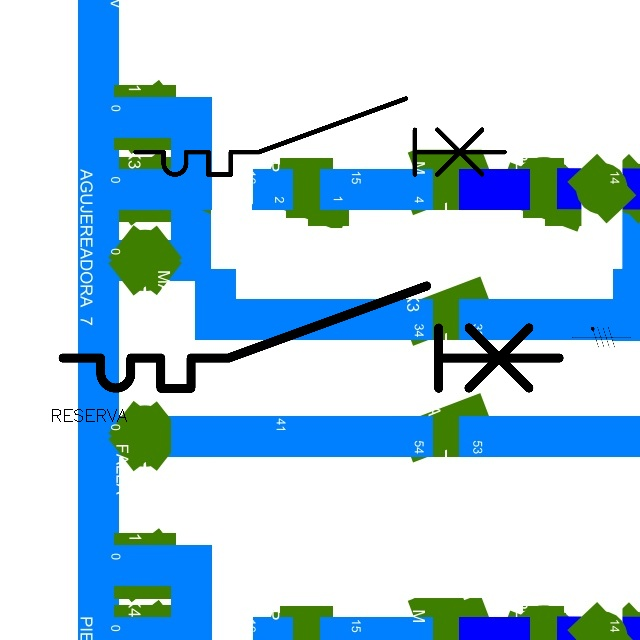interruptor_termomagnetico: (50, 273, 571, 401), (126, 89, 514, 184)
